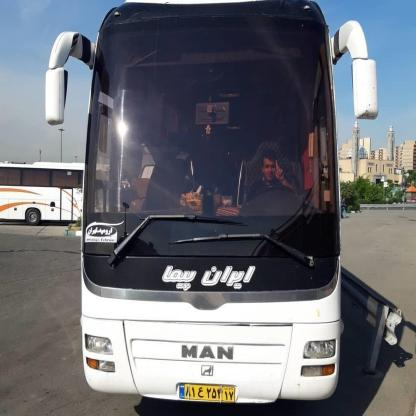Bus: (43, 0, 377, 416), (0, 155, 82, 243)
